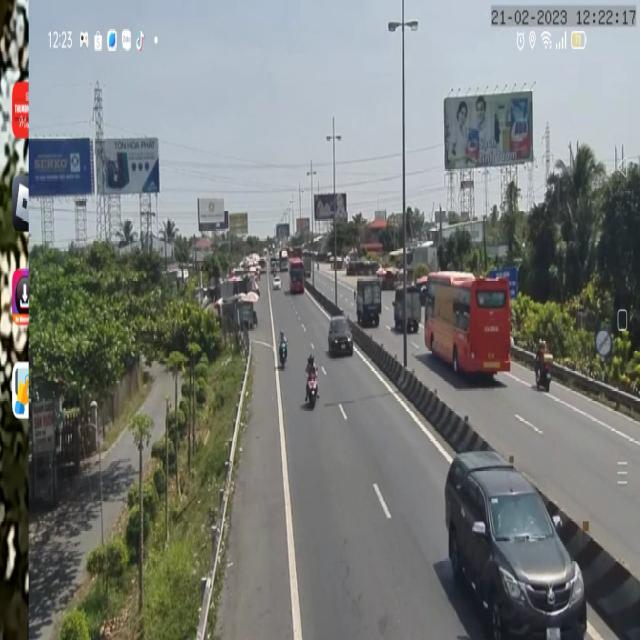bus: (421, 272, 513, 378), (287, 252, 304, 296)
car: (443, 452, 589, 638), (327, 313, 354, 358)
motorbike: (533, 335, 553, 396), (304, 355, 318, 408), (278, 325, 288, 368)
truck: (393, 279, 421, 334), (355, 273, 382, 326)
